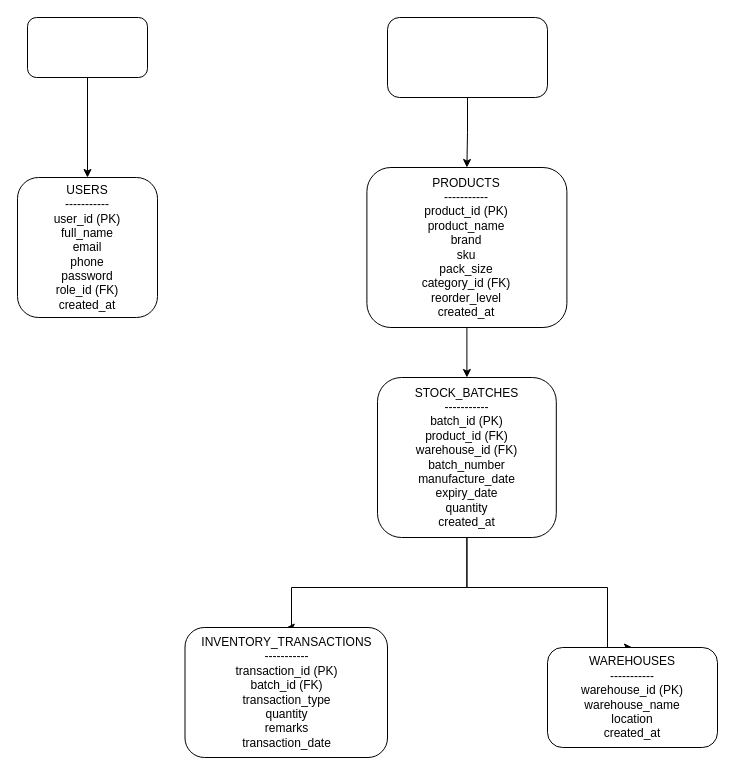
The diagram is 735 pixels wide and 775 high, and some of its shapes have lost their labels. The shapes that lost their labels are listed below. From the top down, each one's centre as x and y in pixels, then its label:
the point at 87,47: ROLES ----------- role_id (PK) role_name
the point at 467,57: PRODUCT_CATEGORIES ----------- category_id (PK) category_name
